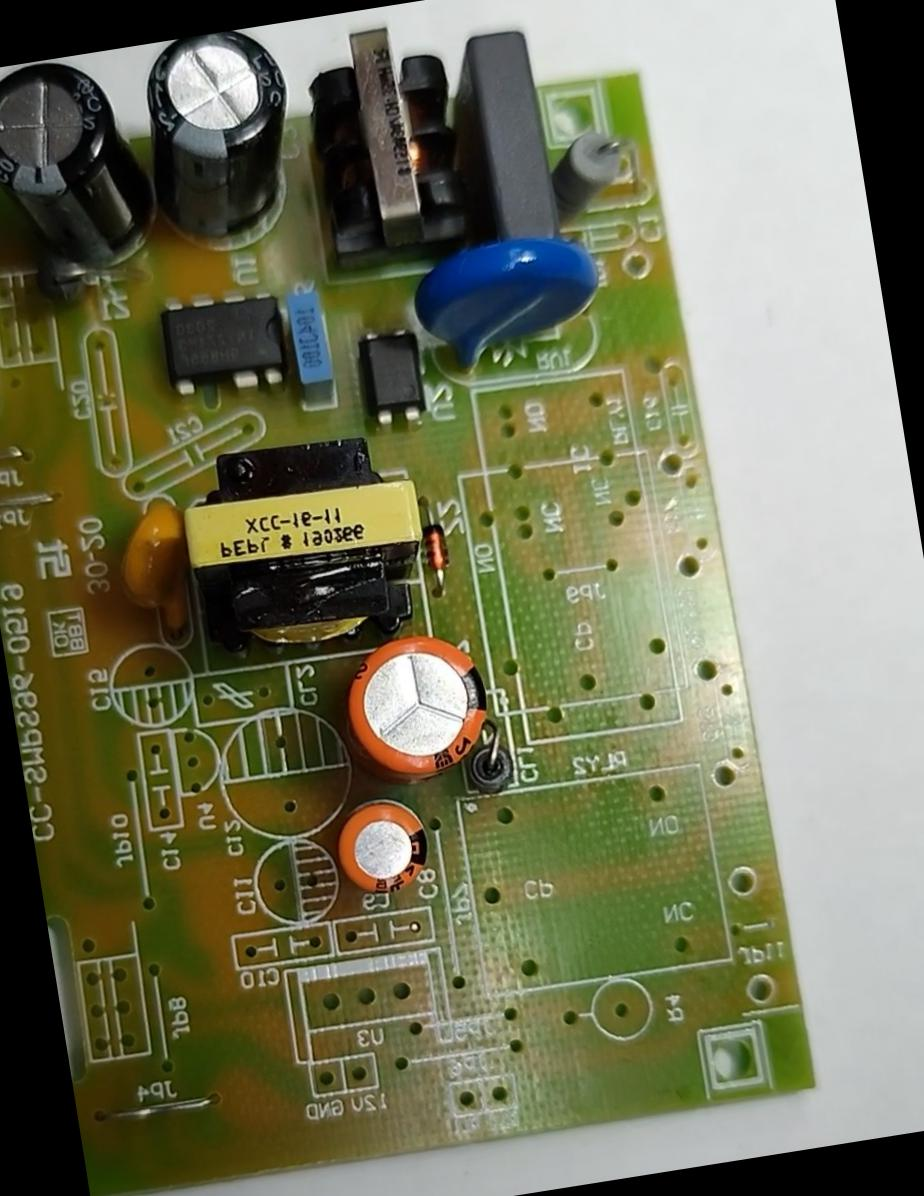Cap1: (330, 618, 505, 794)
Cap2: (322, 790, 438, 908)
Cap3: (131, 22, 314, 254)
Cap4: (0, 46, 163, 289)
MOSFET: (148, 275, 296, 412)
Mov: (406, 222, 613, 380)
Resistor: (546, 120, 636, 222)
Transformer: (165, 418, 438, 671), (284, 10, 484, 280)
